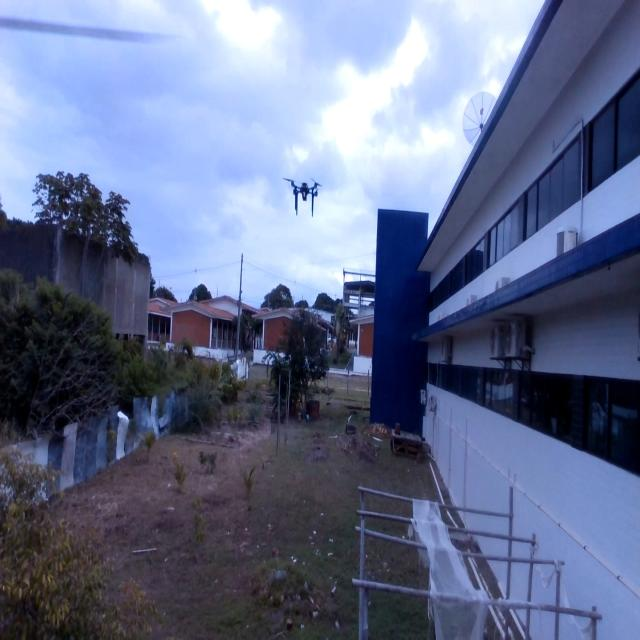-uav-: (283, 164, 322, 224)
